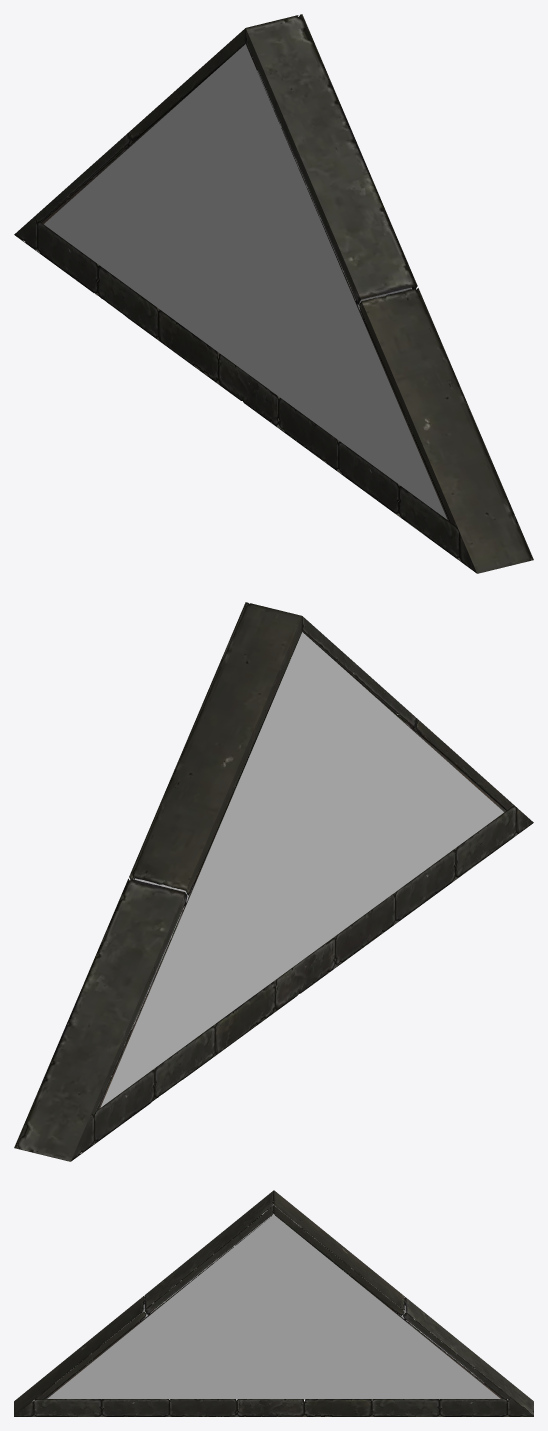
The picture shows the model from 3 angles, top to bottom: view 1: azimuth 30°, elevation 25°; view 2: azimuth 150°, elevation 25°; view 3: azimuth 270°, elevation 25°; orthographic projection. The views are drawn at different scales.
Visible parts, largest first — view 1: SM_Greathall_GableEnd_01_LOD0; view 2: SM_Greathall_GableEnd_01_LOD0; view 3: SM_Greathall_GableEnd_01_LOD0.
Part boxes in pixels (x1,y1,x2,y2): SM_Greathall_GableEnd_01_LOD0: [14, 14, 533, 573]; SM_Greathall_GableEnd_01_LOD0: [14, 602, 533, 1161]; SM_Greathall_GableEnd_01_LOD0: [14, 1190, 533, 1416].
Bounding box in the file's own units: 0.5119 × 3.25 × 7.25.
2 materials, 1 textured.
